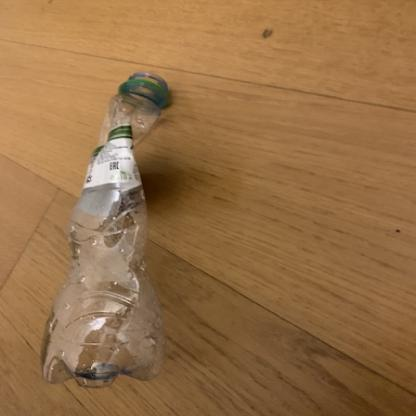trash: (40, 66, 174, 390)
